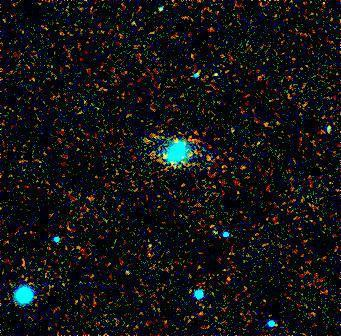star: (188, 139, 218, 169)
